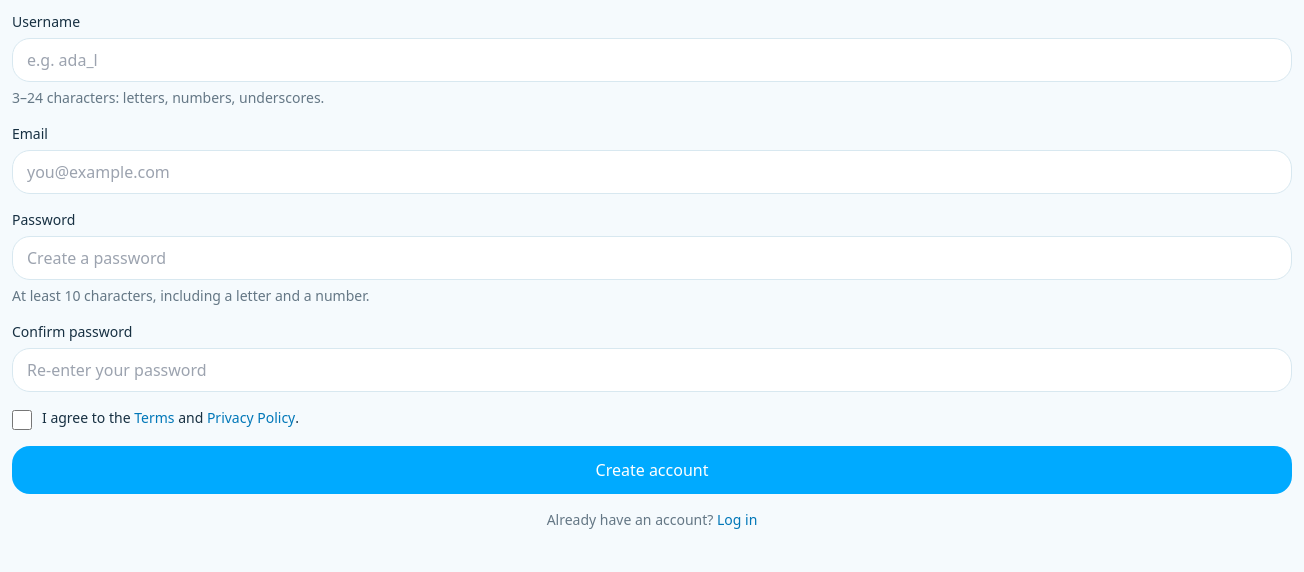
RegisterForm › flags mismatched passwords
Type "ada_l" into the field labelled "Username" at (652, 60), box [12,38,1292,82]
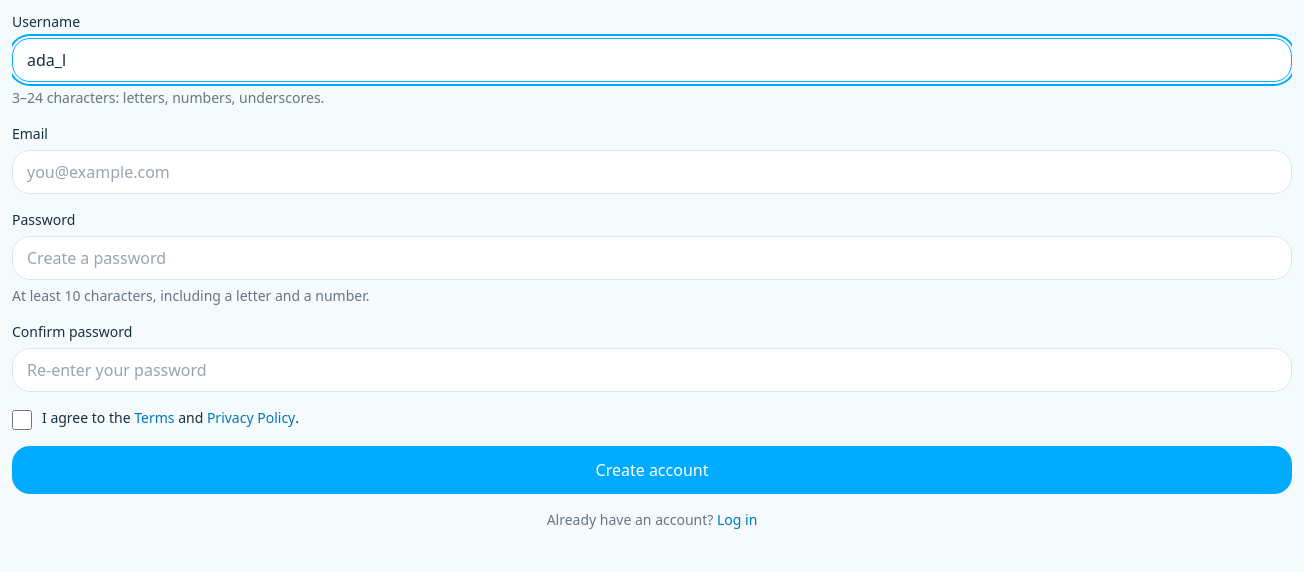
Type "ada@example.com" into the field labelled "Email" at (652, 172), box [12,150,1292,194]
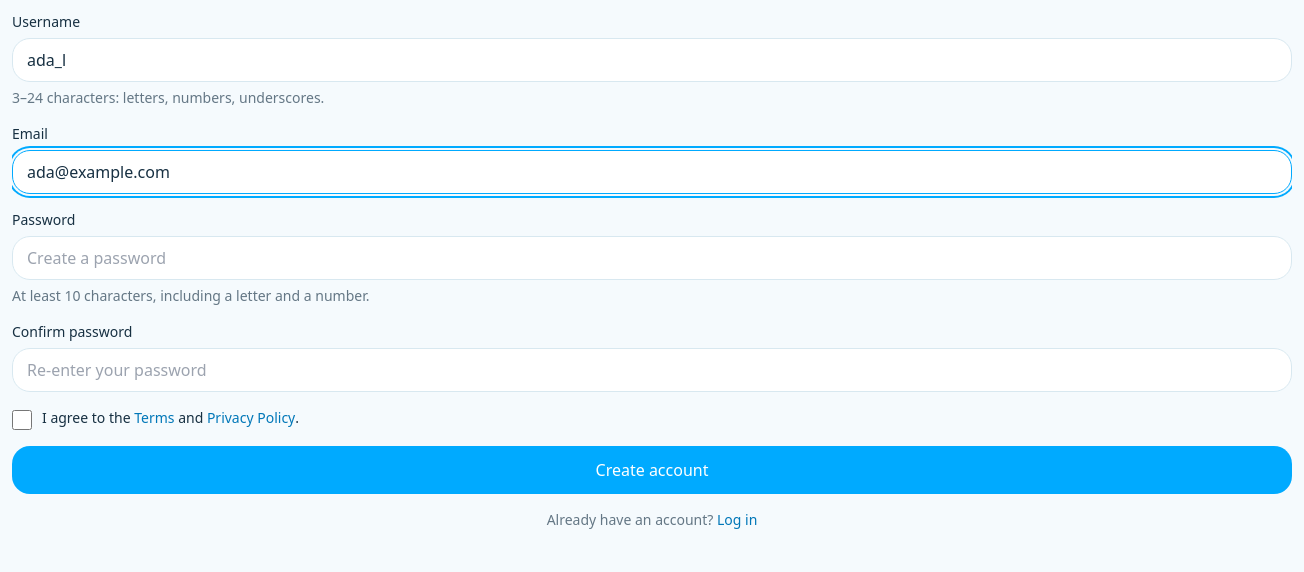
Type "sup3rsecret" into the password field labelled "Password" at (652, 258), box [12,236,1292,280]
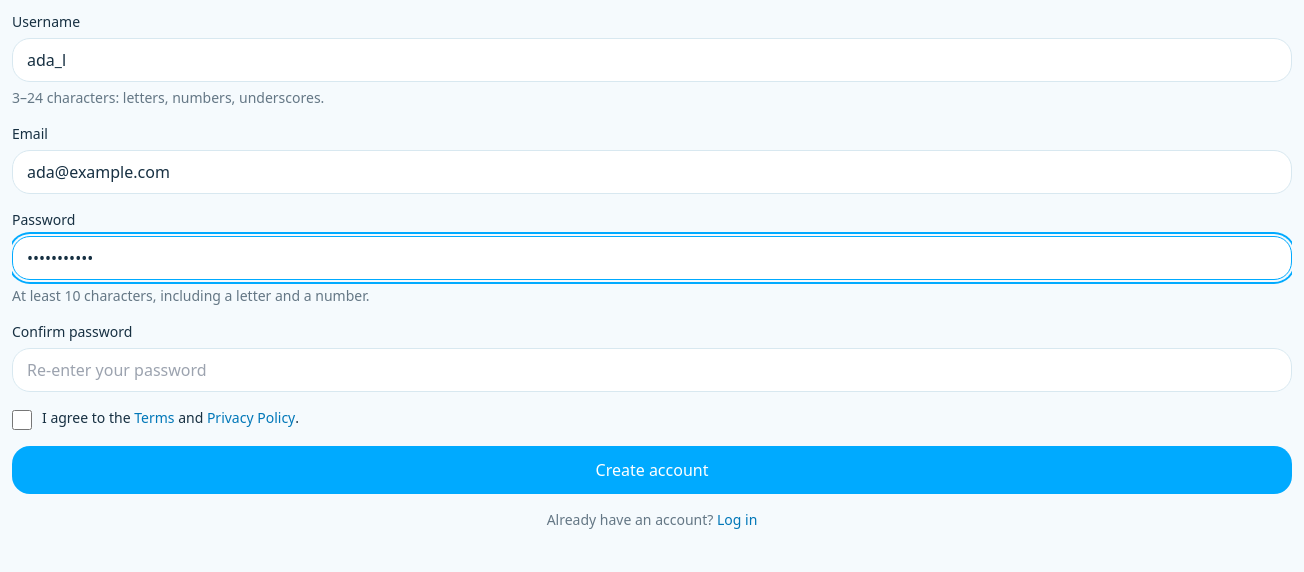
Type "different1" into the password field labelled "Confirm password" at (652, 370), box [12,348,1292,392]
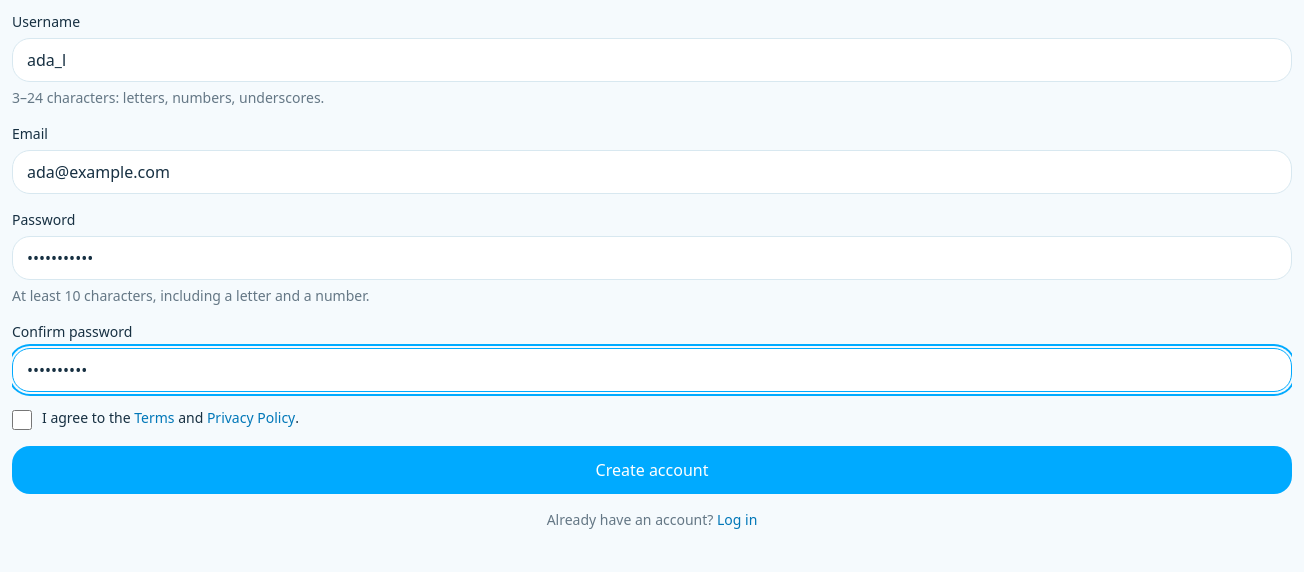
Click the checkbox at (22, 420), box [12,410,32,430]
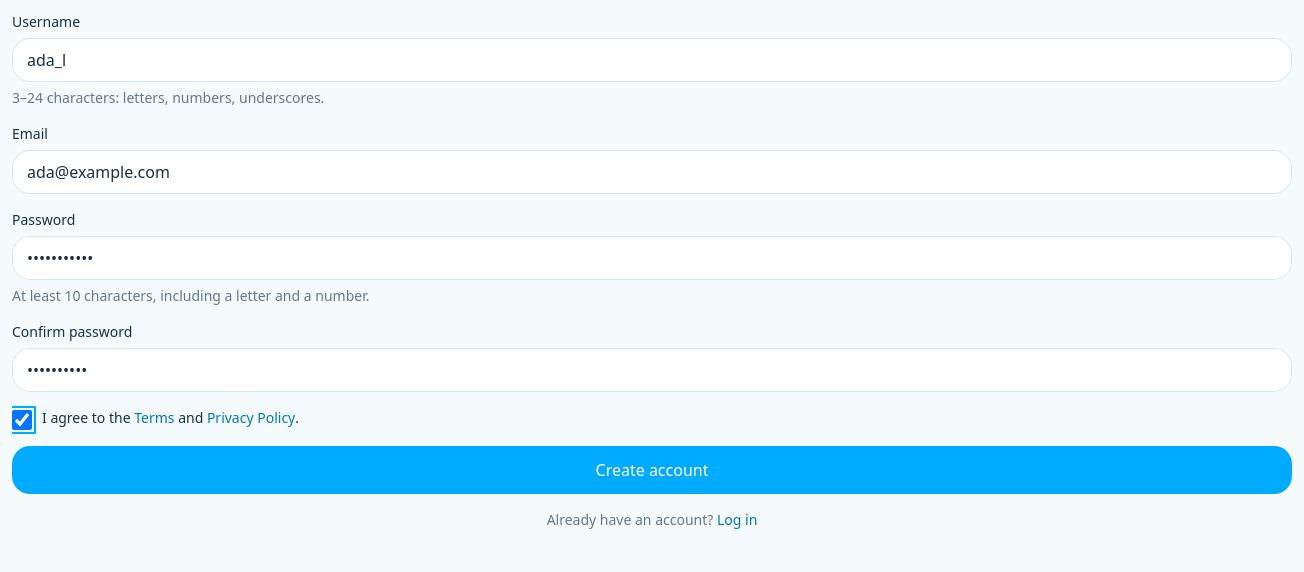
Click the button "Create account" at (652, 470), box [12,446,1292,494]
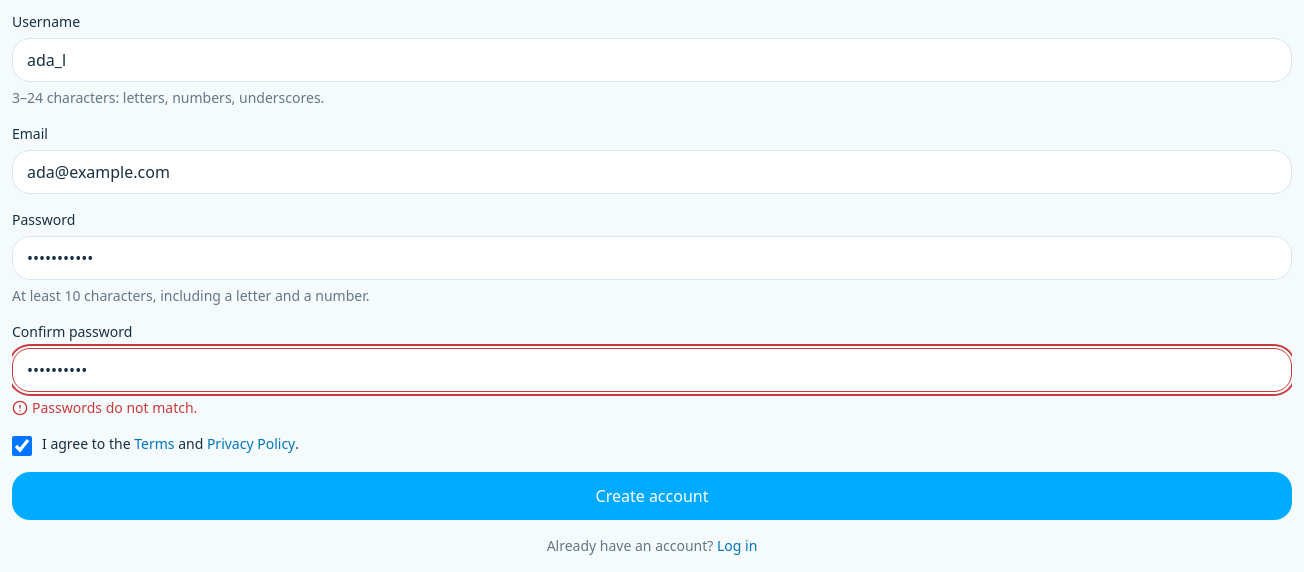
Expected: the text "Passwords do not match." is shown, [12,398,197,417]
